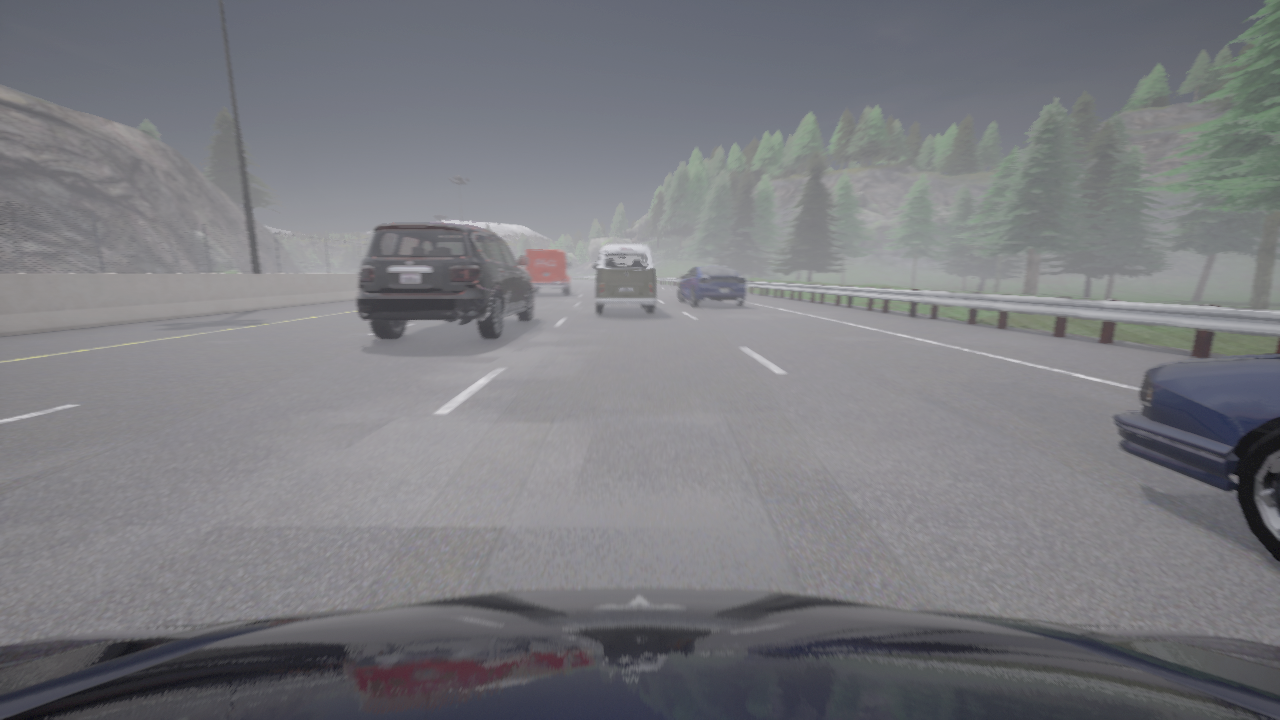cyclist: (0, 588, 1279, 719), (1111, 354, 1279, 562), (357, 223, 533, 339), (593, 243, 656, 313), (678, 264, 746, 306), (525, 250, 571, 294)
